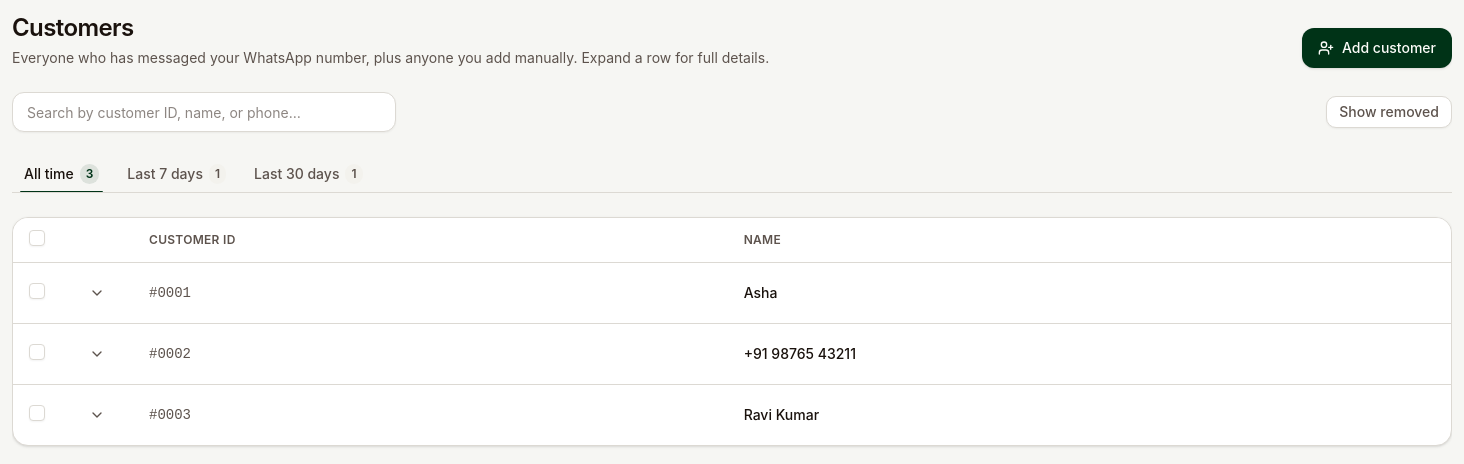
Test: CustomersPage › filters by name via the search input
The width and height of the screenshot is (1464, 464).
Check: the text "Asha" is shown, box [728,262,1451,323]
Type "ravi" into the search field named "Search customers". click: x=204, y=112
box: [12,92,396,132]
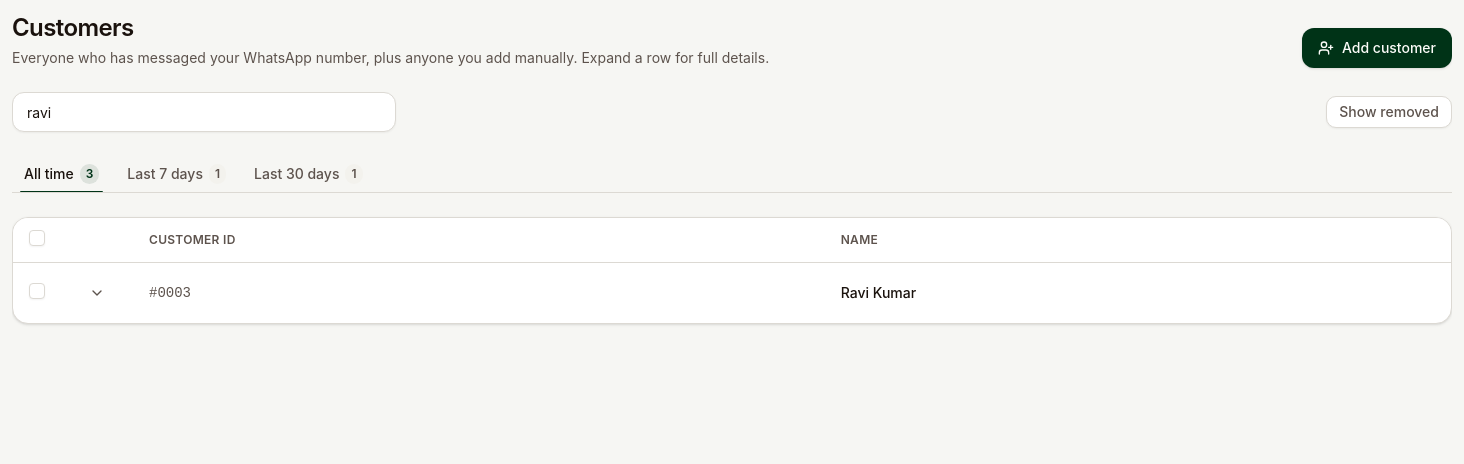
Check: the text "Ravi Kumar" is shown, box [825,262,1451,322]
Check: the text "Asha" is gone
